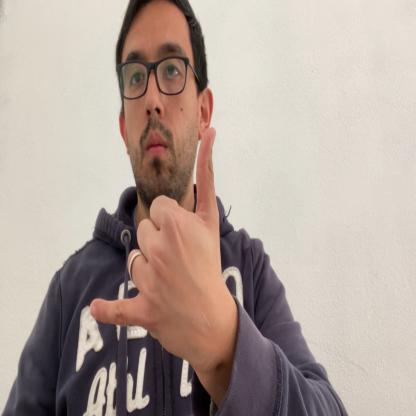Y: (91, 128, 229, 364)
